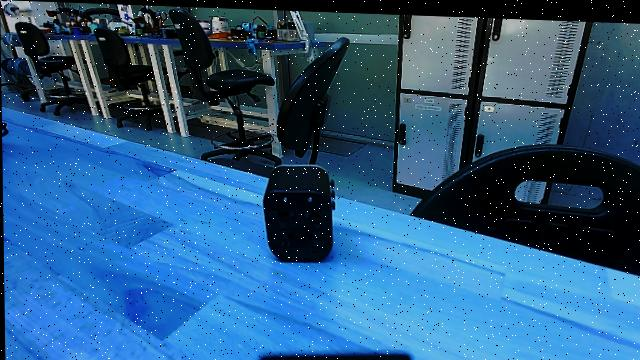adapter: (260, 159, 335, 264)
